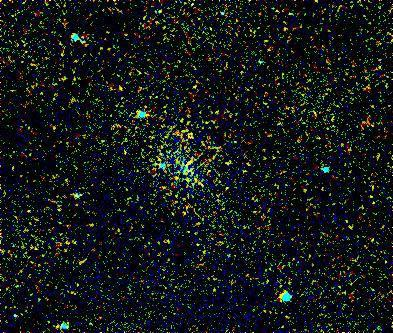star: (173, 119, 203, 149)
